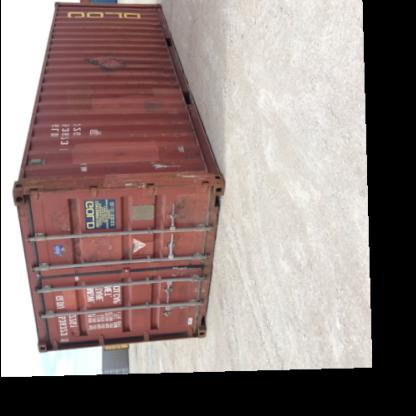Damage: (80, 47, 128, 73), (128, 93, 176, 119), (64, 234, 104, 262), (166, 196, 198, 223), (70, 88, 96, 120), (150, 61, 176, 88), (178, 165, 208, 183), (72, 160, 92, 177), (143, 160, 177, 170), (114, 176, 138, 190), (82, 127, 106, 140), (172, 144, 186, 156)
